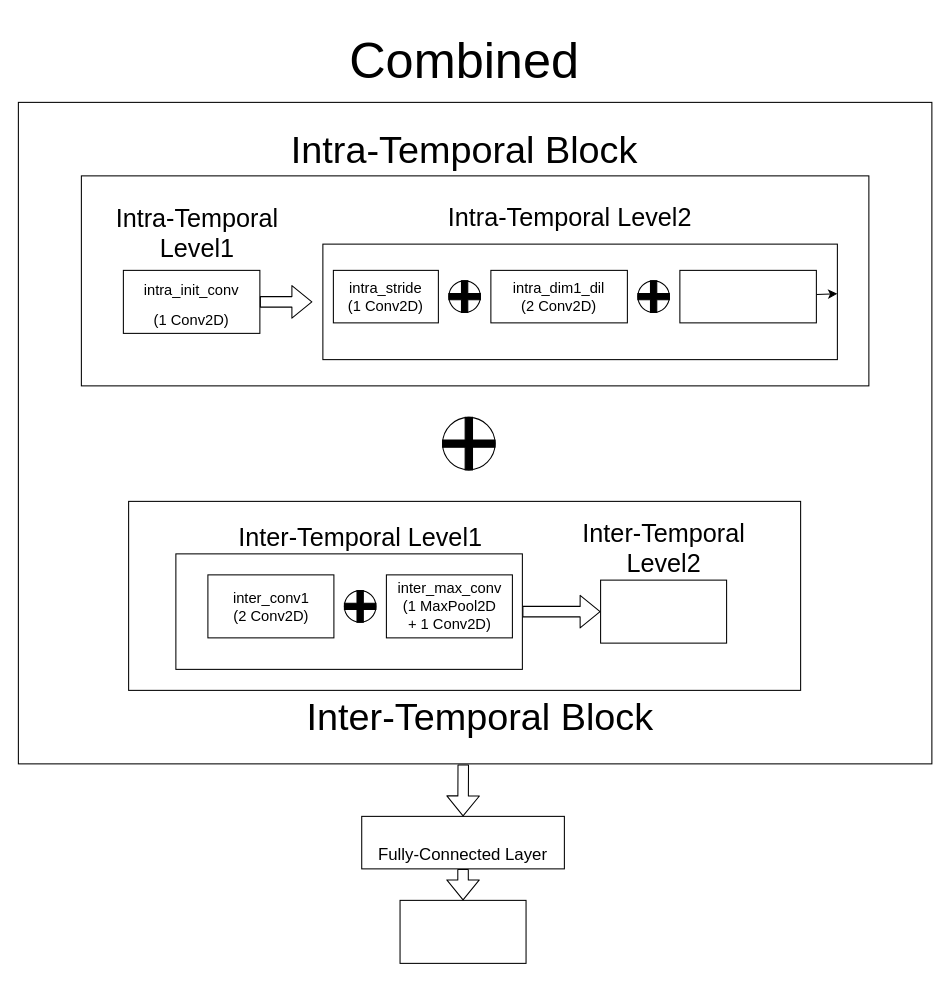
Image size: 950x982. Some labels were removed from this diagram. The shapes that lost their labels are listed below. From the top down, each one's centre as x and y in pixels, then its label:
the point at 747,296: intra_dim2_dil (1 Conv2D)
the point at 663,611: inter_conv2 (2 Conv2D)
the point at 462,931: Output
